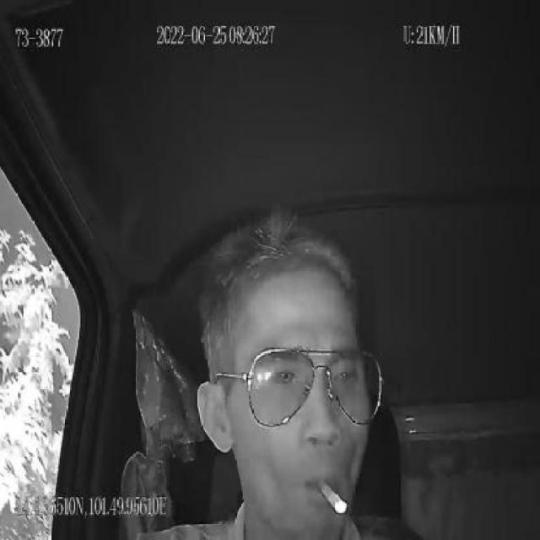smoking: (315, 474, 348, 517)
